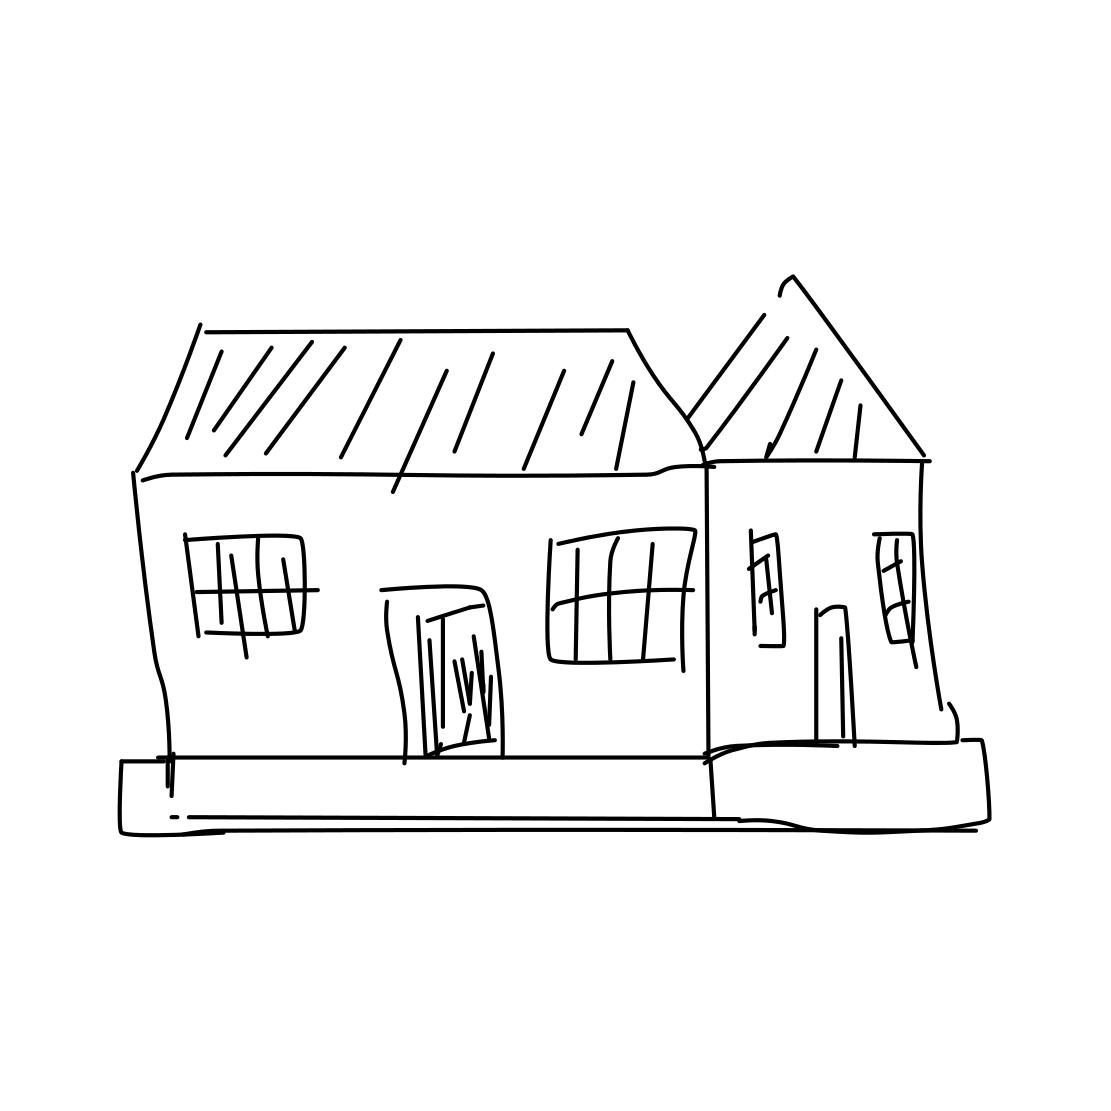House: (70, 262, 1014, 853)
